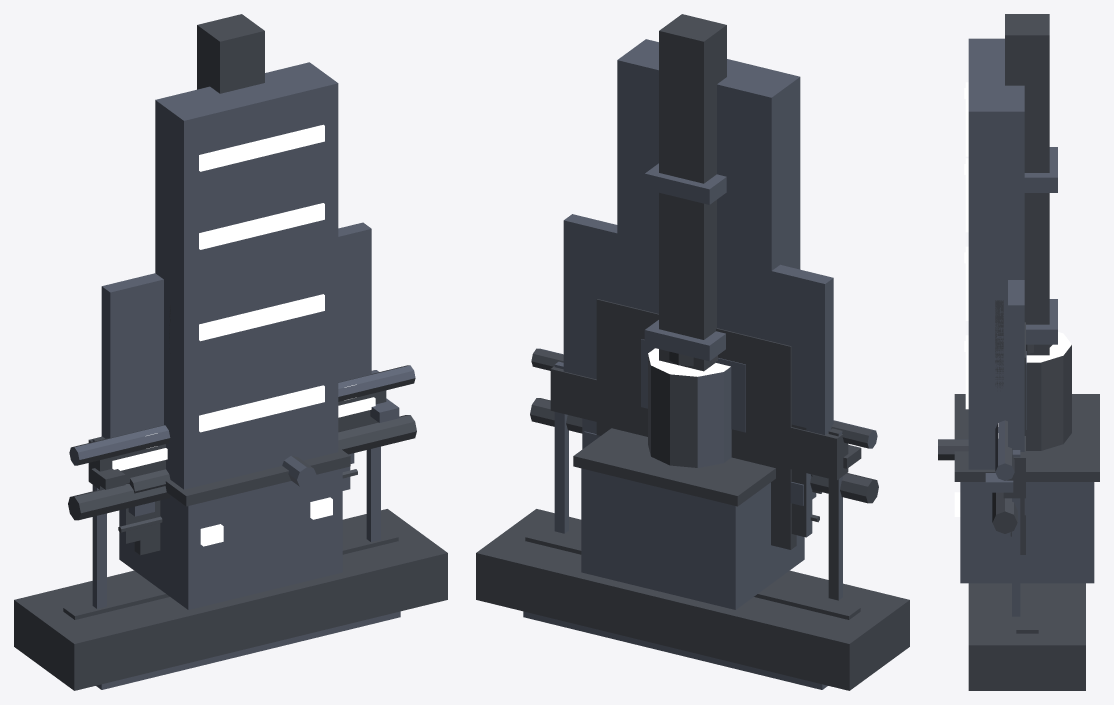
Rendered from lab_kit.glb.
The picture shows the model from 3 angles, left to right: view 1: azimuth 30°, elevation 25°; view 2: azimuth 150°, elevation 25°; view 3: azimuth 270°, elevation 25°; orthographic projection. The views are drawn at different scales.
Parts seen in each view (by area): view 1: decor_rack, decor_duct, decor_crate, decor_console, decor_pipe, decor_pillar, decor_conduit, decor_truss, decor_elbow, decor_cable, decor_vent; view 2: decor_duct, decor_crate, decor_rack, decor_pillar, decor_console, decor_vent, decor_conduit, decor_canister, decor_pipe, decor_truss, decor_placard, decor_cable; view 3: decor_rack, decor_crate, decor_duct, decor_pillar, decor_canister, decor_console, decor_pipe, decor_truss, decor_conduit, decor_elbow, decor_vent.
Boxes of the visible parts, left/top/right/bottom form: decor_rack: left=155, top=62, right=338, bottom=602; decor_duct: left=14, top=509, right=447, bottom=690; decor_crate: left=119, top=447, right=350, bottom=609; decor_console: left=101, top=222, right=371, bottom=448; decor_pipe: left=68, top=365, right=416, bottom=608; decor_pillar: left=197, top=14, right=264, bottom=93; decor_conduit: left=88, top=370, right=386, bottom=516; decor_truss: left=63, top=529, right=398, bottom=619; decor_elbow: left=127, top=455, right=316, bottom=493; decor_cable: left=118, top=466, right=357, bottom=543; decor_vent: left=134, top=500, right=160, bottom=555; decor_duct: left=476, top=509, right=909, bottom=690; decor_crate: left=573, top=428, right=804, bottom=609; decor_rack: left=617, top=39, right=800, bottom=565; decor_pillar: left=644, top=14, right=726, bottom=371; decor_console: left=563, top=214, right=833, bottom=434; decor_vent: left=596, top=299, right=796, bottom=549; decor_conduit: left=550, top=366, right=848, bottom=505; decor_canister: left=648, top=348, right=731, bottom=467; decor_pipe: left=530, top=348, right=878, bottom=600; decor_truss: left=525, top=529, right=860, bottom=619; decor_placard: left=641, top=339, right=745, bottom=432; decor_cable: left=582, top=374, right=821, bottom=537; decor_rack: left=964, top=38, right=1024, bottom=579; decor_crate: left=954, top=394, right=1099, bottom=583; decor_duct: left=968, top=583, right=1085, bottom=690; decor_pillar: left=1005, top=14, right=1057, bottom=355; decor_canister: left=1026, top=332, right=1071, bottom=450; decor_console: left=995, top=280, right=1024, bottom=451; decor_pipe: left=985, top=420, right=1020, bottom=616; decor_truss: left=1016, top=583, right=1038, bottom=633; decor_conduit: left=1003, top=436, right=1025, bottom=515; decor_elbow: left=938, top=439, right=968, bottom=460; decor_vent: left=1020, top=322, right=1025, bottom=554.
Bounding box in the file's own units: 1.5 × 2.34 × 0.58.
